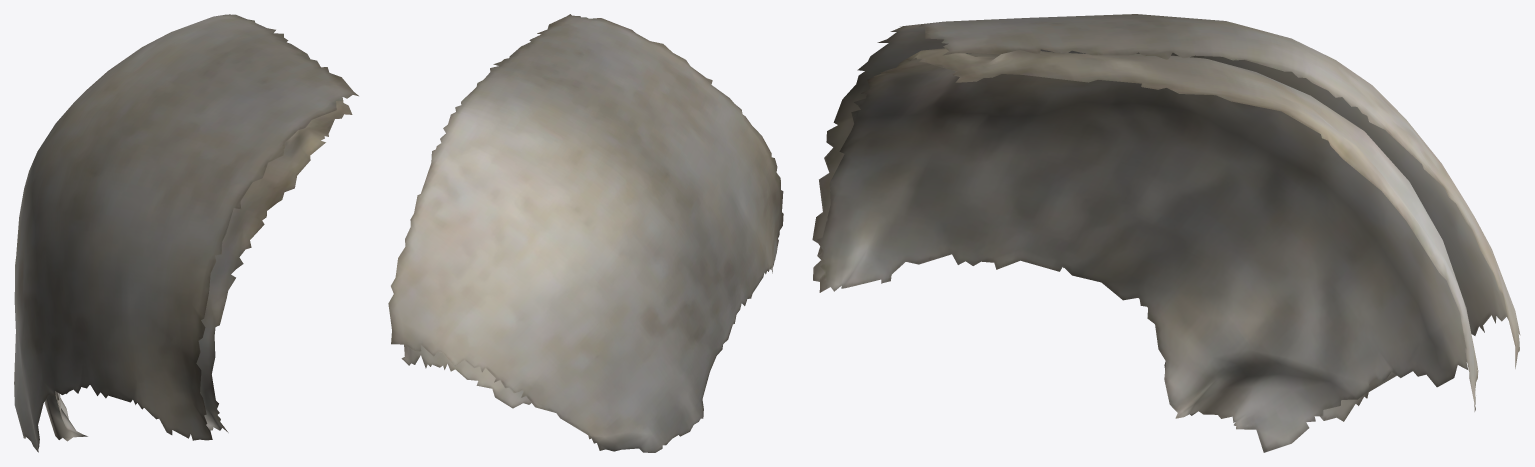
The model's file is bone-parietal.glb.
3 views of the same model, side by side, from view 1: azimuth 30°, elevation 25°; view 2: azimuth 150°, elevation 25°; view 3: azimuth 270°, elevation 25° (orthographic). The views are drawn at different scales.
Visible parts, largest first — view 1: Right_parietal_bone; view 2: Right_parietal_bone; view 3: Right_parietal_bone.
Boxes of the visible parts, x1,y1,x2,y2 form: Right_parietal_bone: (14,14,358,452); Right_parietal_bone: (388,14,783,452); Right_parietal_bone: (812,14,1520,452).
Size of the model in its own units: 0.0764 by 0.1113 by 0.1385.
Materials: 1 (1 with a texture image).
